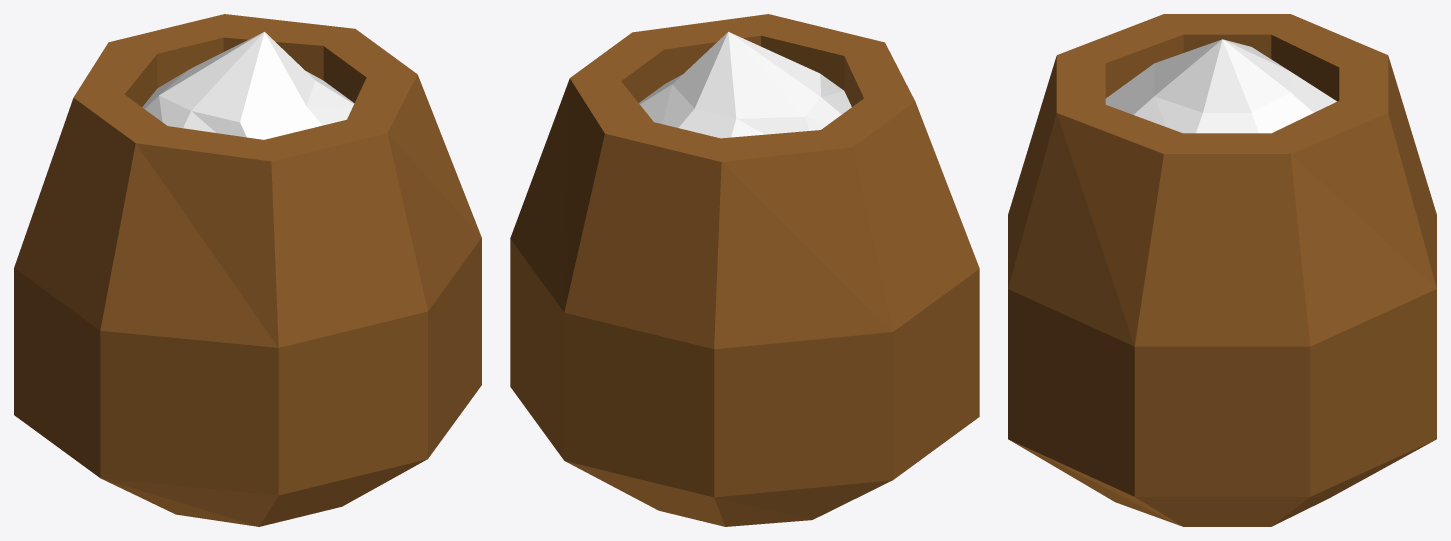
The model's file is inv_pot_of_flour_2.obj.
3 views of the same model, side by side, from view 1: azimuth 30°, elevation 25°; view 2: azimuth 150°, elevation 25°; view 3: azimuth 270°, elevation 25° (orthographic).
Size of the model in its own units: 0.3594 by 0.3984 by 0.3438.
